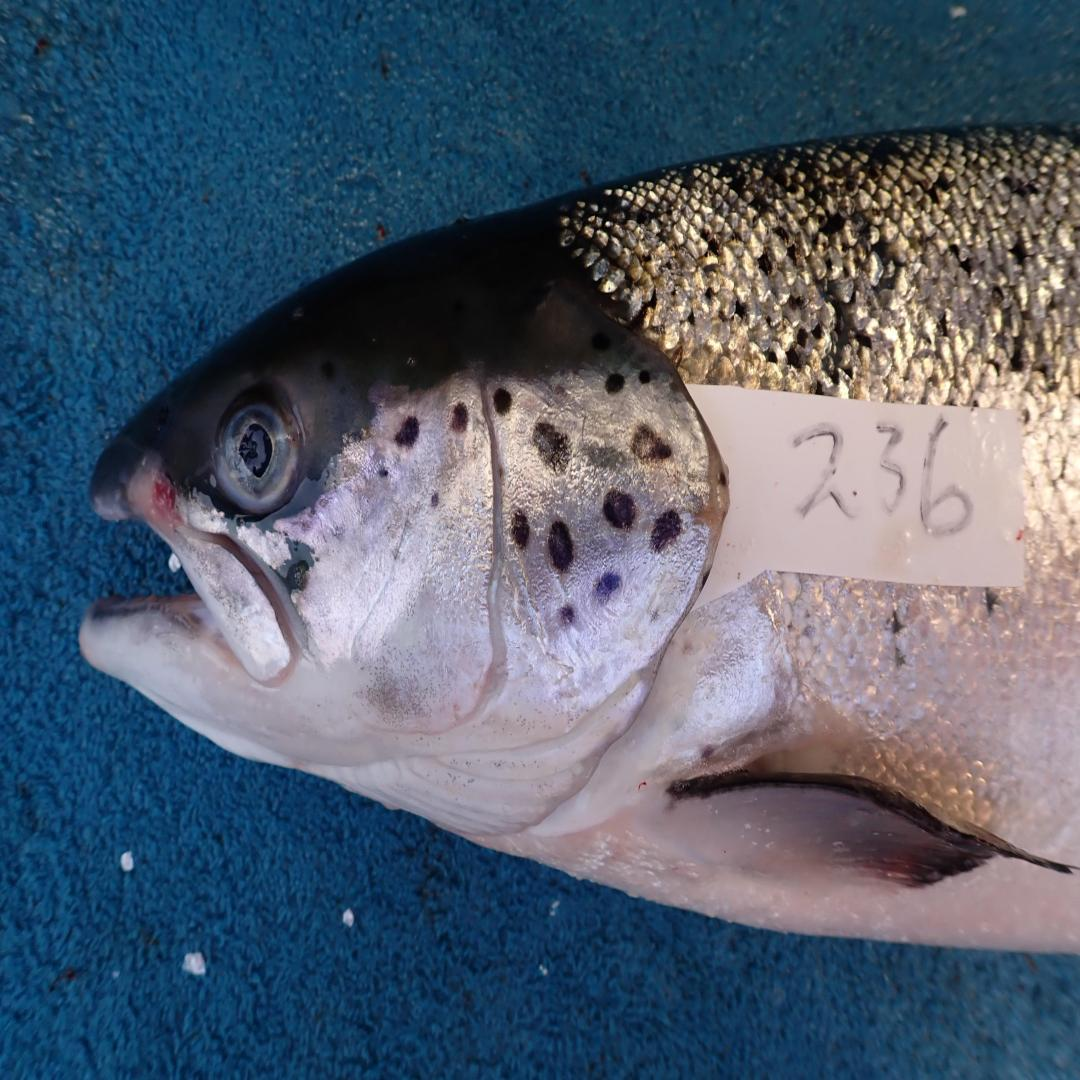spot: (534, 422, 572, 472), (631, 425, 673, 461), (548, 520, 574, 574), (603, 489, 637, 529), (650, 509, 681, 551), (586, 444, 624, 471), (394, 416, 420, 447), (595, 571, 620, 599), (510, 512, 529, 548), (451, 402, 468, 430), (494, 388, 513, 413), (605, 374, 624, 394), (559, 605, 576, 624), (639, 371, 650, 385), (430, 492, 441, 506), (378, 464, 388, 478)
